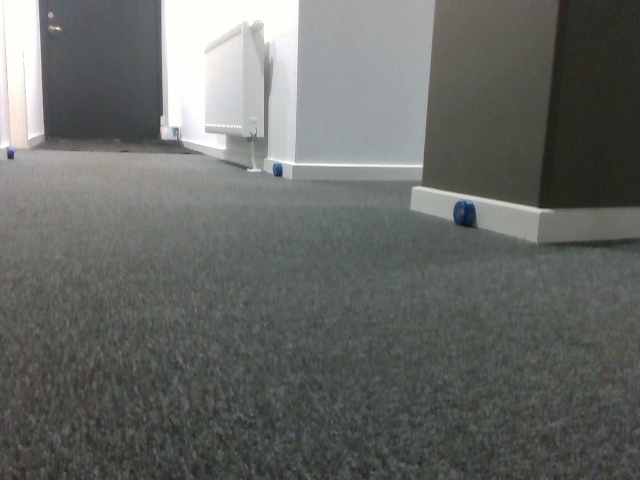alfa: (450, 199, 478, 227), (272, 161, 285, 178), (7, 145, 15, 162)
